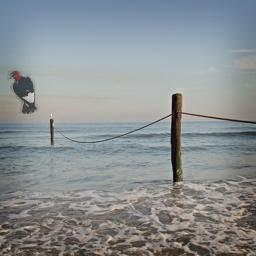Woodpecker: (7, 69, 39, 114)
